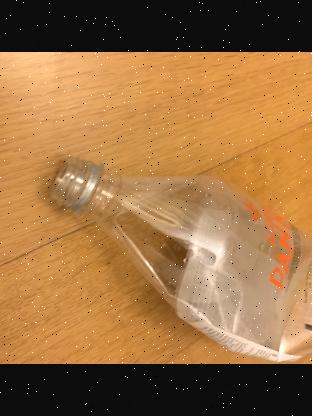Plastic Bottle: (49, 155, 312, 361)
